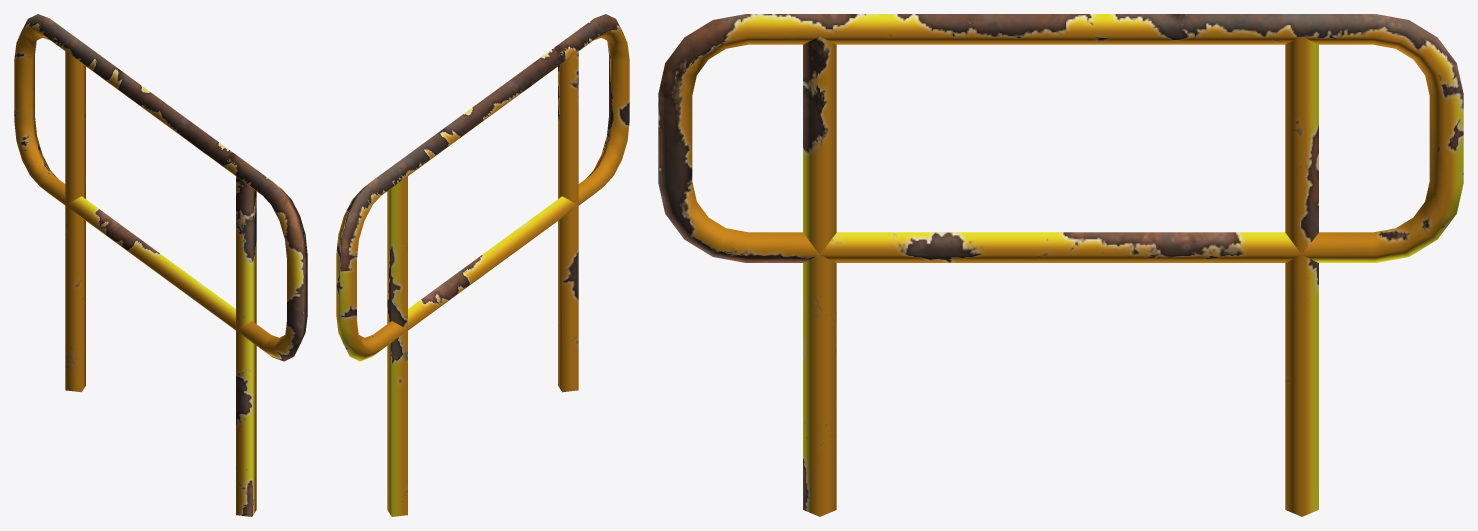
The model's file is safetyRail_single02.fbx.
3 views of the same model, side by side, from view 1: azimuth 30°, elevation 25°; view 2: azimuth 150°, elevation 25°; view 3: azimuth 270°, elevation 25° (orthographic). The views are drawn at different scales.
Visible parts, largest first — view 1: safetyRail_single02; view 2: safetyRail_single02; view 3: safetyRail_single02.
Boxes of the visible parts, left/top/right/bottom form: safetyRail_single02: left=14, top=14, right=307, bottom=516; safetyRail_single02: left=336, top=14, right=629, bottom=516; safetyRail_single02: left=658, top=14, right=1463, bottom=516.
Size of the model in its own units: 7 by 113 by 167.
